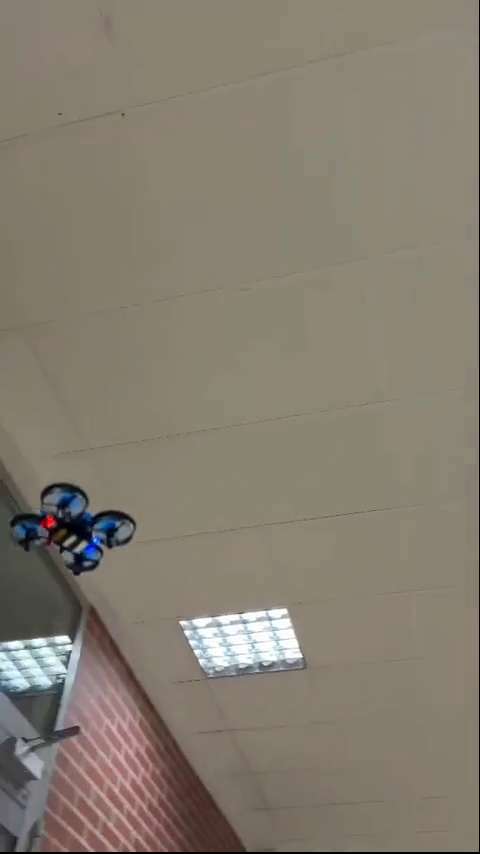drone: (12, 481, 140, 577)
